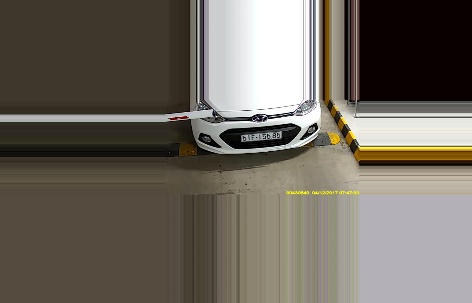plate: (242, 130, 279, 141)
